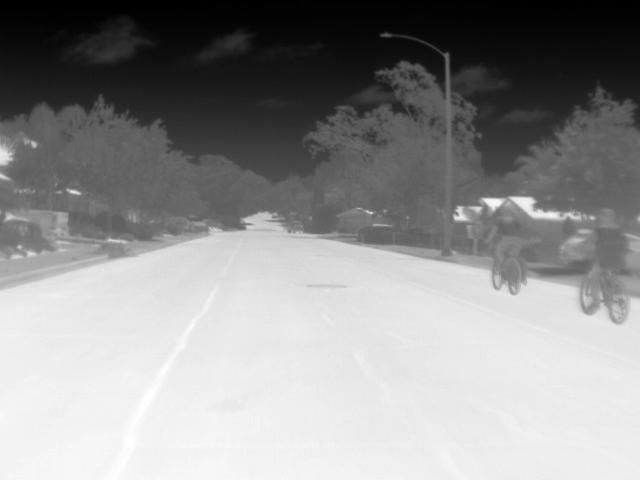car: (6, 206, 70, 236), (558, 228, 592, 263)
person: (575, 206, 630, 308), (484, 205, 524, 284)
